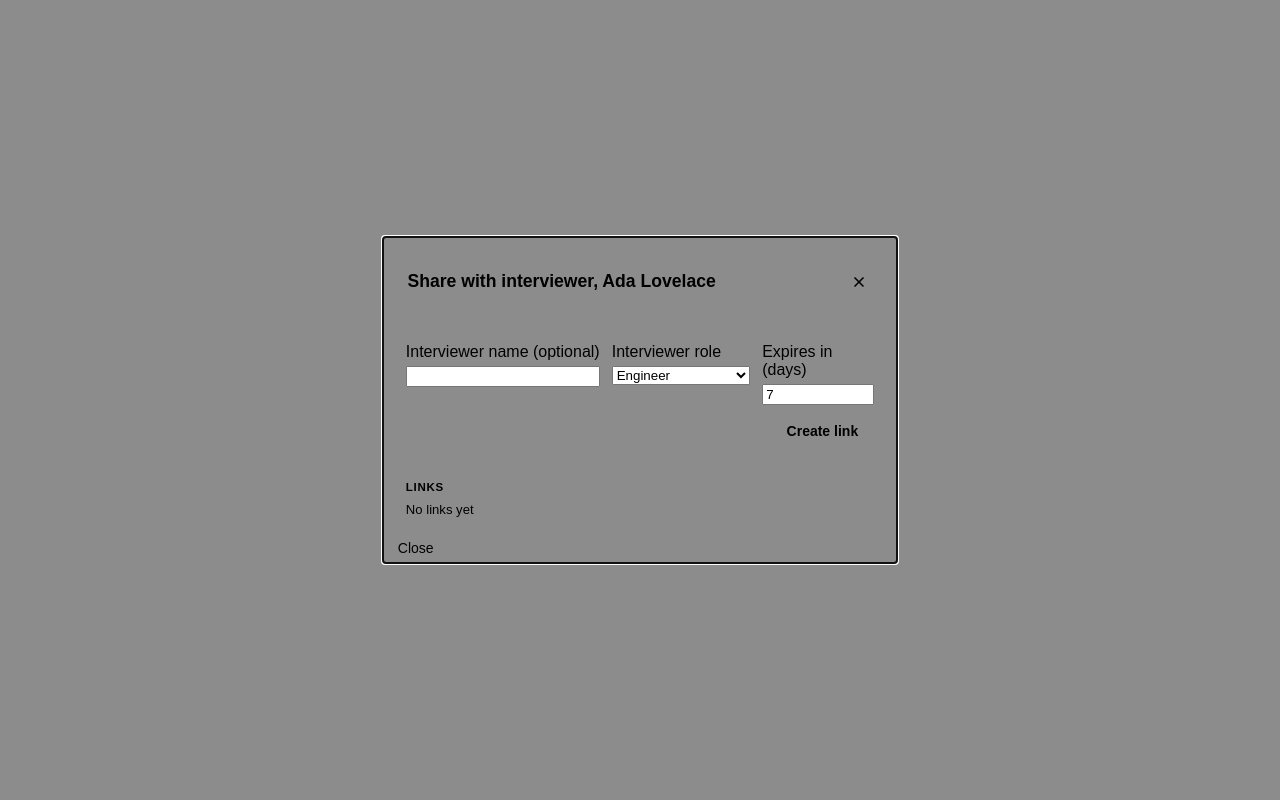
it: creating a link › builds the link from this tab's own origin, and uses the server's when no token comes back
Click the button "Create link" at {"x": 822, "y": 431}, box 771,415 -> 874,447
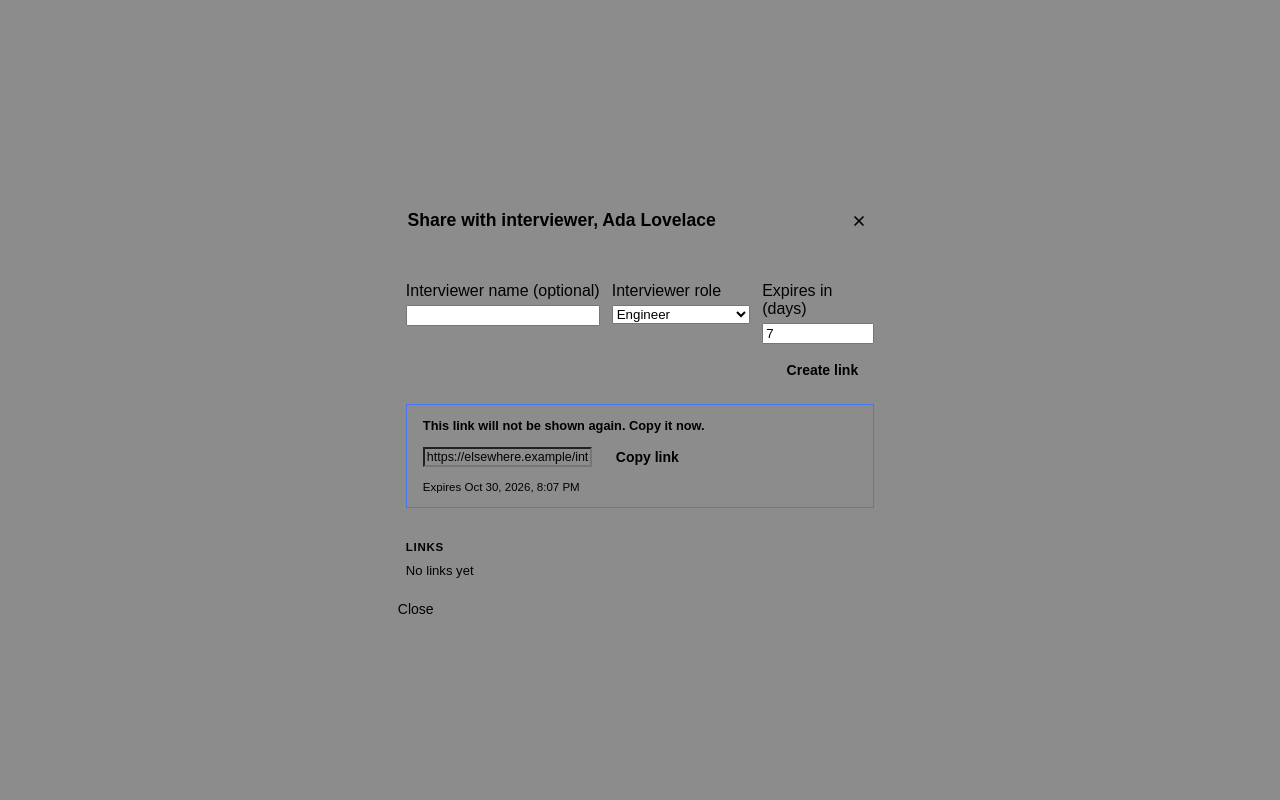
Now the field named "Interviewer link" holds "https://elsewhere.example/interviewer/tok_secret_123", box 423,447 -> 592,467
